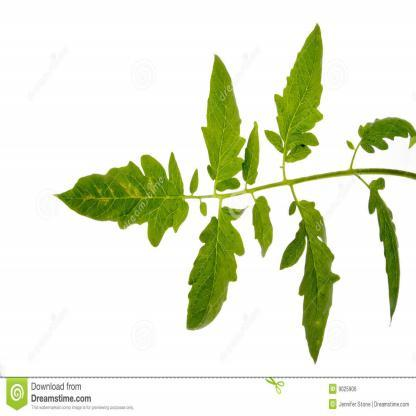Tomato leaf bacterial spot: (56, 143, 190, 265), (172, 196, 254, 356), (276, 189, 344, 374), (258, 11, 331, 174), (202, 34, 250, 200)
